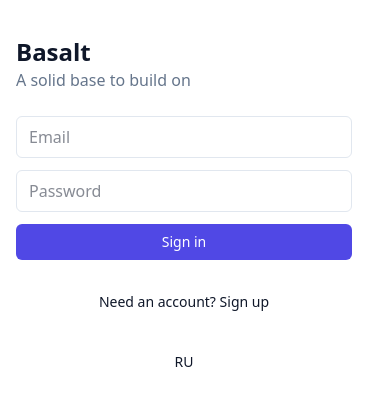
Test: LoginScreen › reveals the labeled name field in sign-up mode
The image size is (369, 411).
What coordinates should you click on to do the following:
click the button "Need an account? Sign up"
I would click on:
 (184, 302)
Its box is [16,284,352,320].
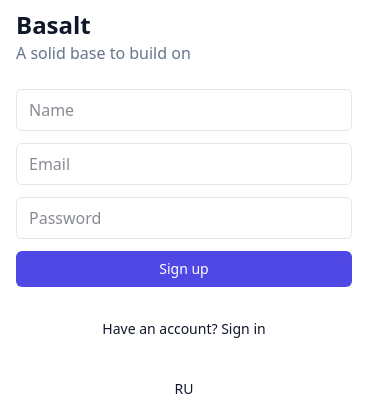
Now the field labelled "Name" is shown, box [16,89,352,131]
